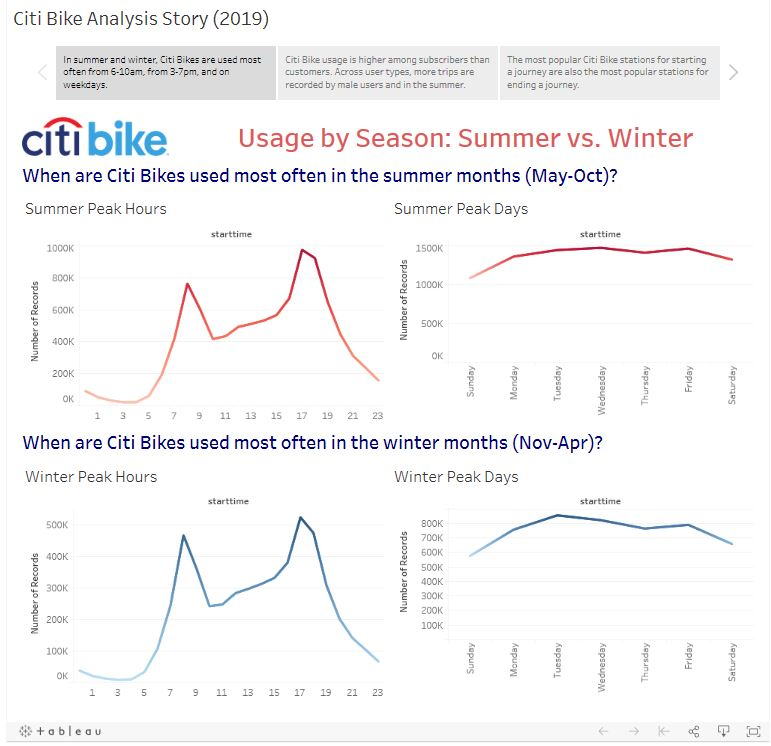

Layout of this report page (visuals, bound fields, positions):
{"tool":"tableau","page":{"name":"Dashboard1_Seasons","canvas":[1000,800],"ordinal":0},"visuals":[{"type":"image","param":"C:/Users/ivyfo/Dropbox/2019/Data Analytics Boot Camp 2019/DA Boot Camp - Homewor","box":[8,8,207,60]},{"type":"text","box":[215,8,777,60]},{"type":"text","box":[8,68,984,42]},{"type":"worksheet","title":"Summer Peak Hours","mark":"Automatic","rows":["Number of Records"],"cols":["starttime"],"box":[8,110,492,313]},{"type":"worksheet","title":"Summer Peak Days","mark":"Automatic","rows":["Number of Records"],"cols":["starttime"],"box":[500,110,492,313]},{"type":"text","box":[8,423,984,44]},{"type":"worksheet","title":"Winter Peak Hours","mark":"Automatic","rows":["Number of Records"],"cols":["starttime"],"box":[8,467,492,325]},{"type":"worksheet","title":"Winter Peak Days","mark":"Automatic","rows":["Number of Records"],"cols":["starttime"],"box":[500,467,492,325]}]}

Visuals, with their boxes on the page's 1000x800 design canvas (x1, y1, x2, y2). These are canvas units, not pixel positions in the 771x746 screenshot, which may show the page scaled, cropped or inside an application window:
image: [8,8,215,68]
text: [215,8,992,68]
text: [8,68,992,110]
"Summer Peak Hours" worksheet: [8,110,500,423]
"Summer Peak Days" worksheet: [500,110,992,423]
text: [8,423,992,467]
"Winter Peak Hours" worksheet: [8,467,500,792]
"Winter Peak Days" worksheet: [500,467,992,792]
